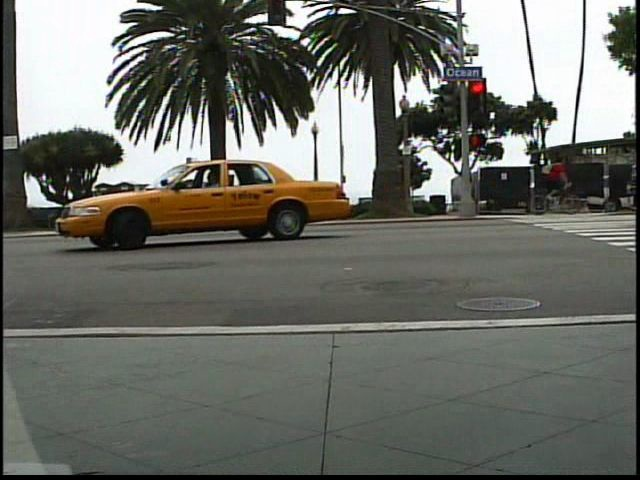person: (537, 153, 567, 208)
